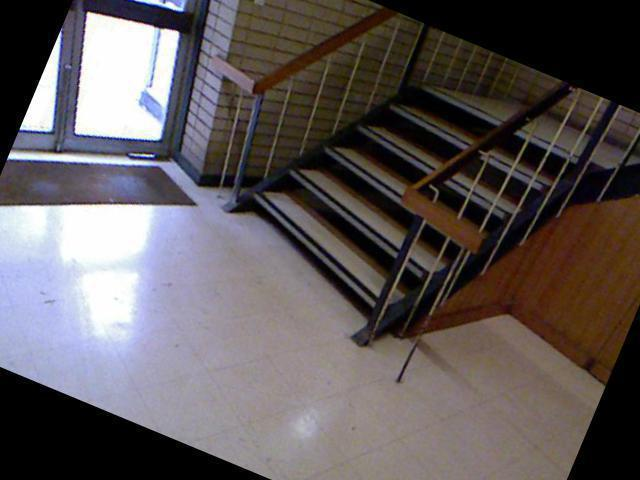Escaleras: (201, 36, 585, 398), (583, 114, 640, 220)
